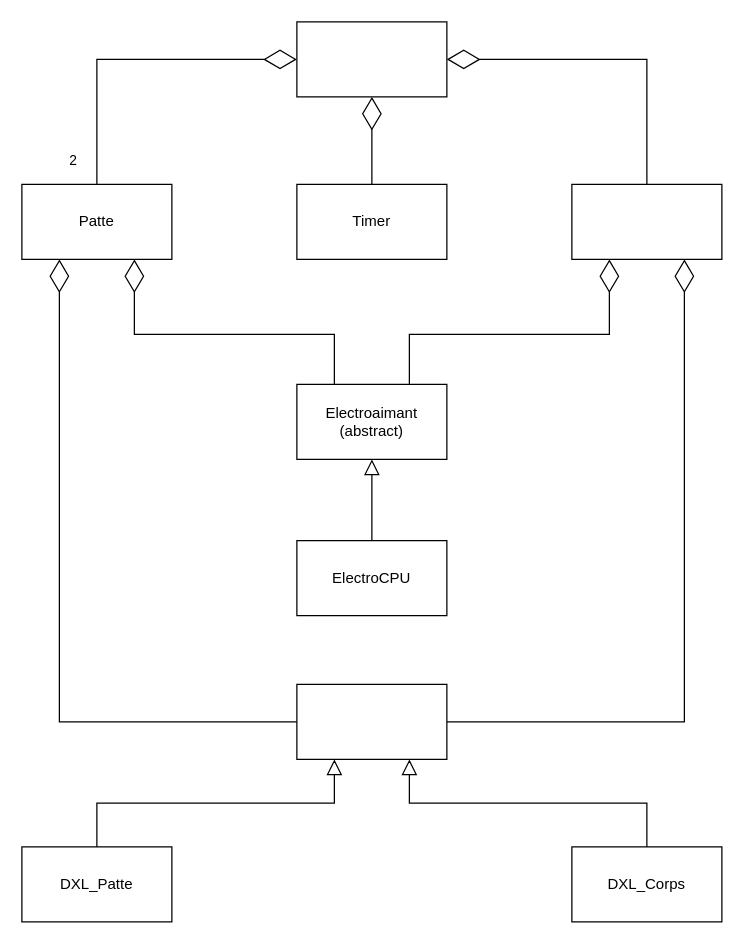
Image size: 744x944. Some labels were removed from this diagram. The shapes that lost their labels are listed below. From the top down, each one's centre as x and y in pixels, then its label:
the point at 371,59: Caterpullup
the point at 646,221: Corps
the point at 371,721: Moteur (abstract)
